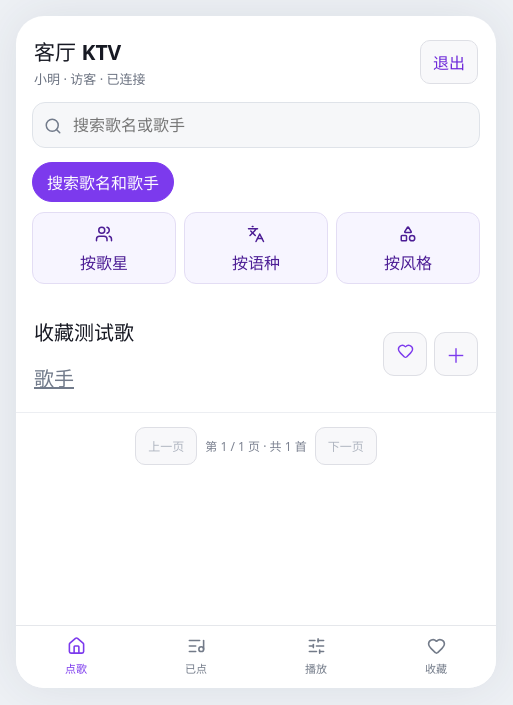
Test: mobile application shell › toggles a favorite from discovery
The image size is (513, 705).
Expected: the button "收藏测试歌" is shown, [34,309,134,353]
Click the button named "收藏 收藏测试歌".
click(405, 354)  # box [383,332,427,376]
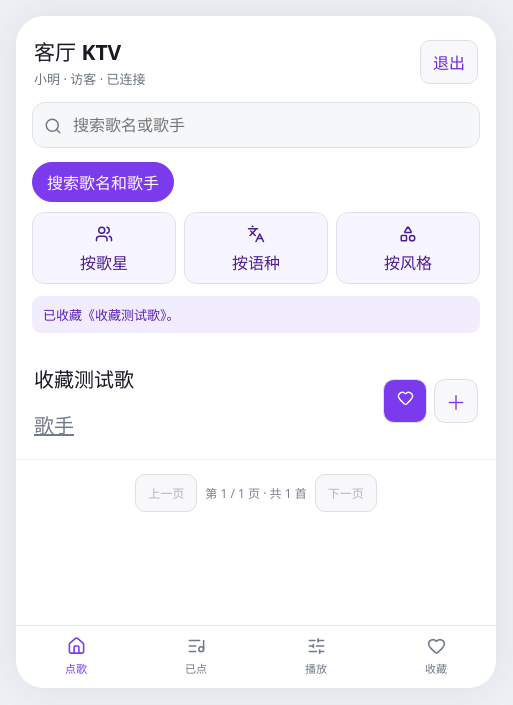
Expected: the message shows "已收藏《收藏测试歌》", [43,306,180,324]
